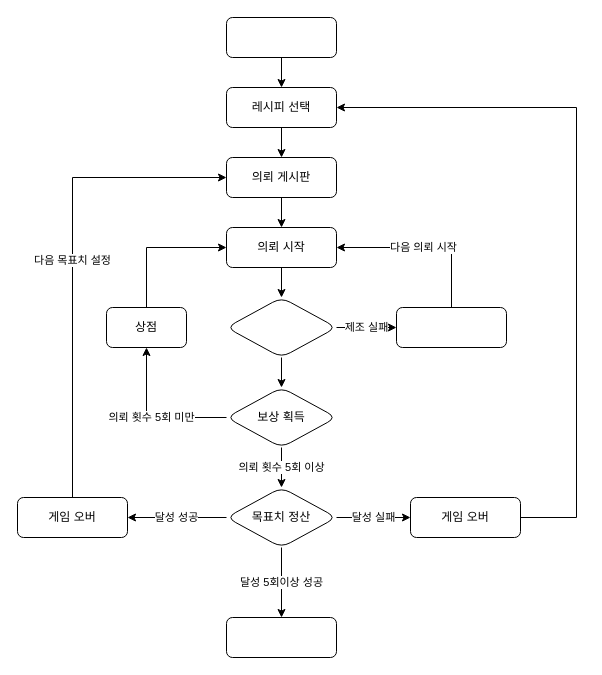
Some shapes in this 602 by 675 pixel diagram are drawn without their labels. Here are the shapes that lost their labels. From the top down, the centre of each, then its label:
pixel 281 37: 게임 시작
pixel 281 327: 포션 제조
pixel 451 327: 위약금 제출
pixel 281 637: 엔딩
